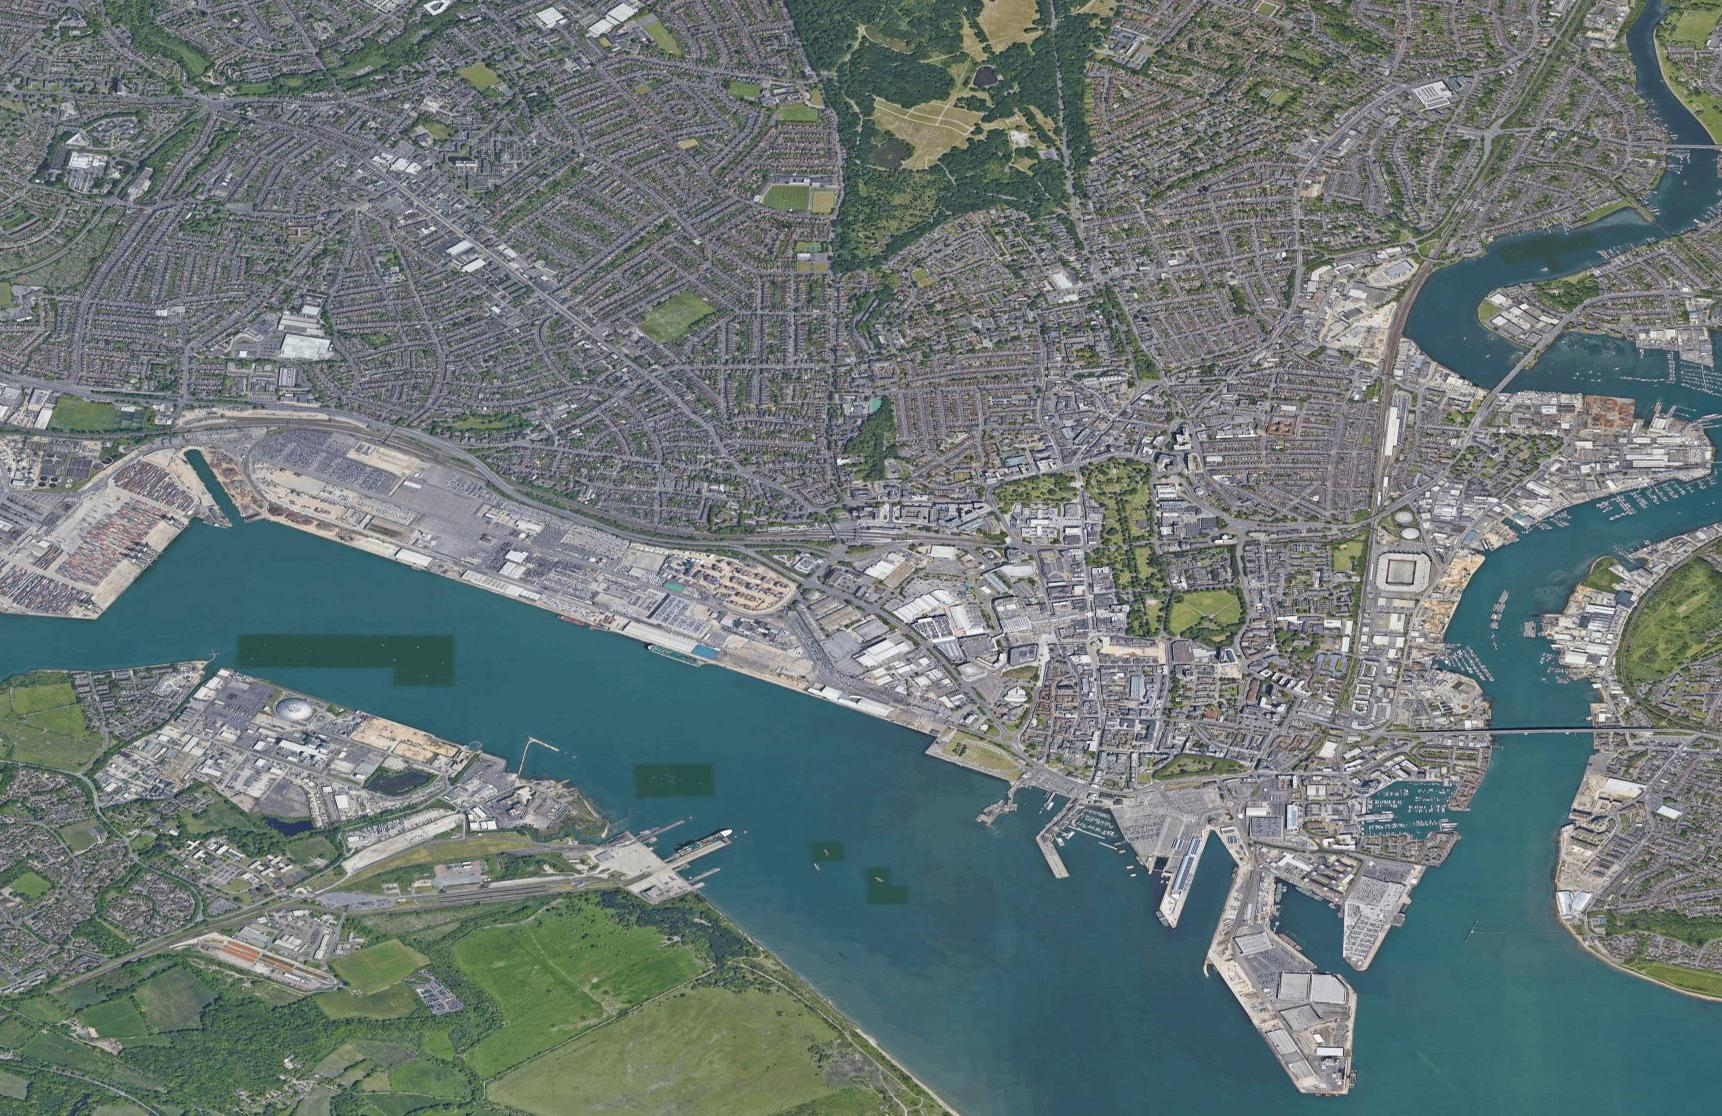bridge: (1489, 718, 1599, 742), (1490, 346, 1536, 393), (1673, 134, 1714, 156)
harbor: (1, 452, 744, 680), (978, 763, 1457, 1110), (510, 729, 738, 926)
train_station: (820, 516, 890, 547)
